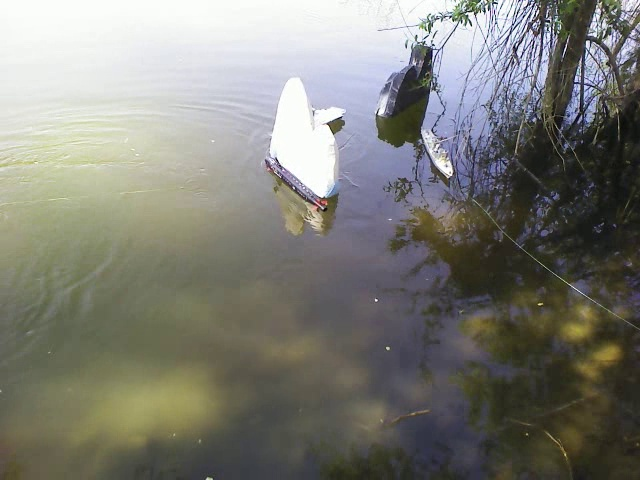iceberg: (264, 73, 341, 200)
rock: (376, 39, 445, 120)
submarine: (263, 152, 330, 213)
warship: (418, 121, 460, 182)
